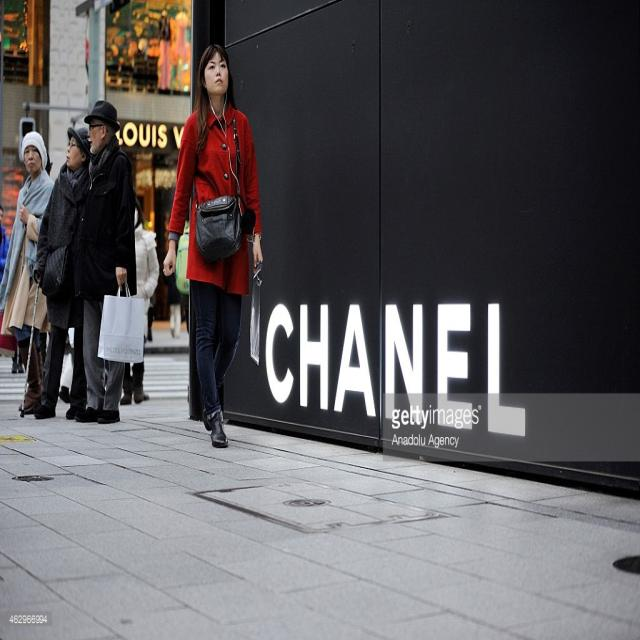body: (160, 41, 266, 451), (73, 94, 148, 428), (32, 122, 94, 424), (0, 130, 55, 416), (119, 190, 160, 406), (166, 269, 184, 339), (61, 328, 76, 404), (0, 204, 11, 287), (11, 339, 27, 378)
